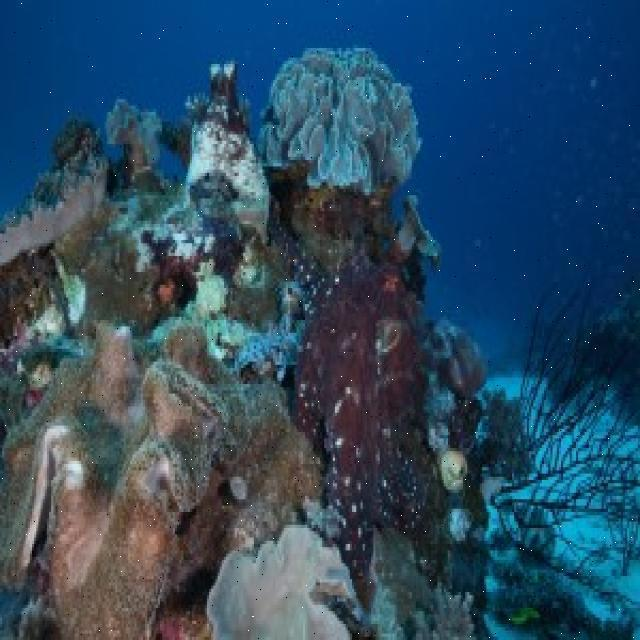Bleached: (259, 38, 435, 195), (209, 513, 363, 640)
